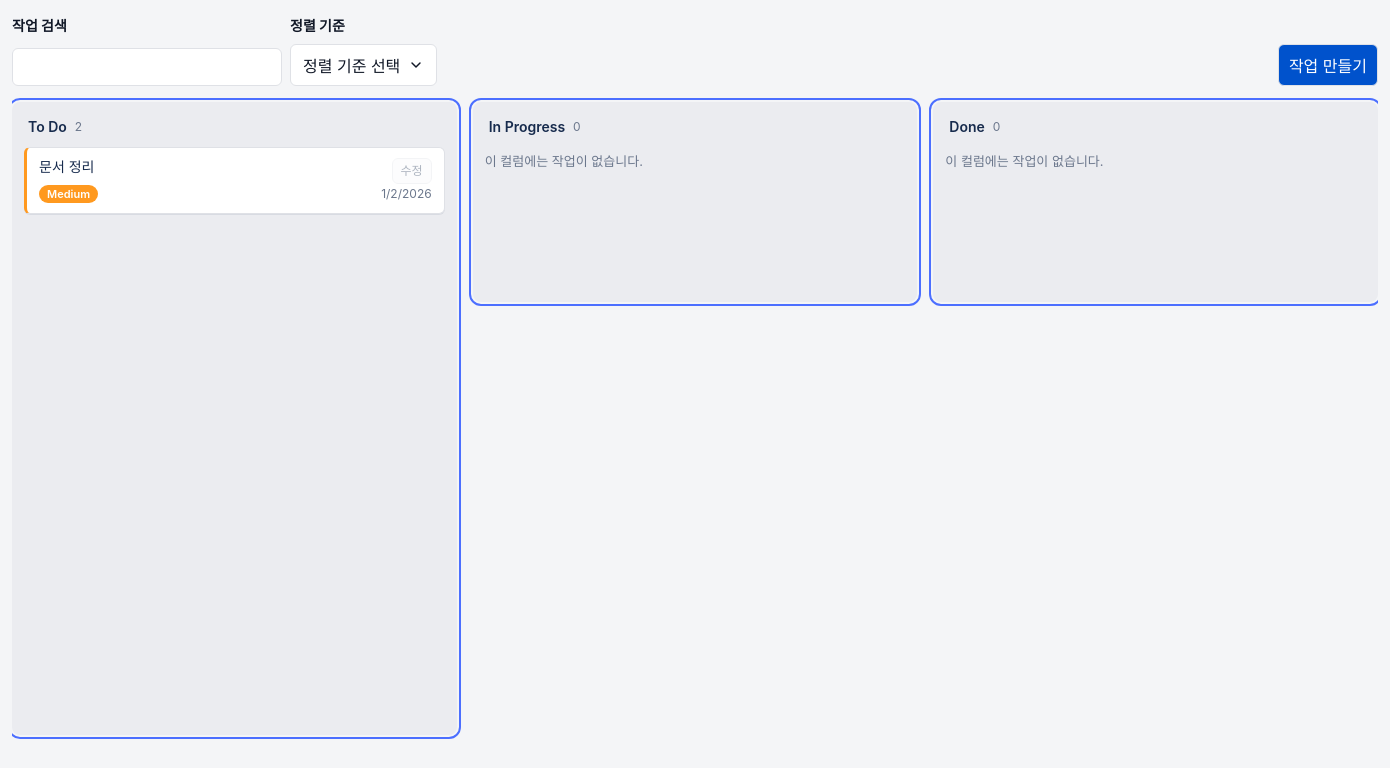
Test: 보드 검색 기능 › 검색어가 바뀌면 쿼리 캐시를 바꾸지 않고 보이는 작업 id만 필터링한다
The image size is (1390, 768).
Expected: the text "문서 정리" is shown, [39, 158, 94, 175]
Type "결제" into the search field labelled "작업 검색" at (147, 67), box [12, 48, 282, 86]
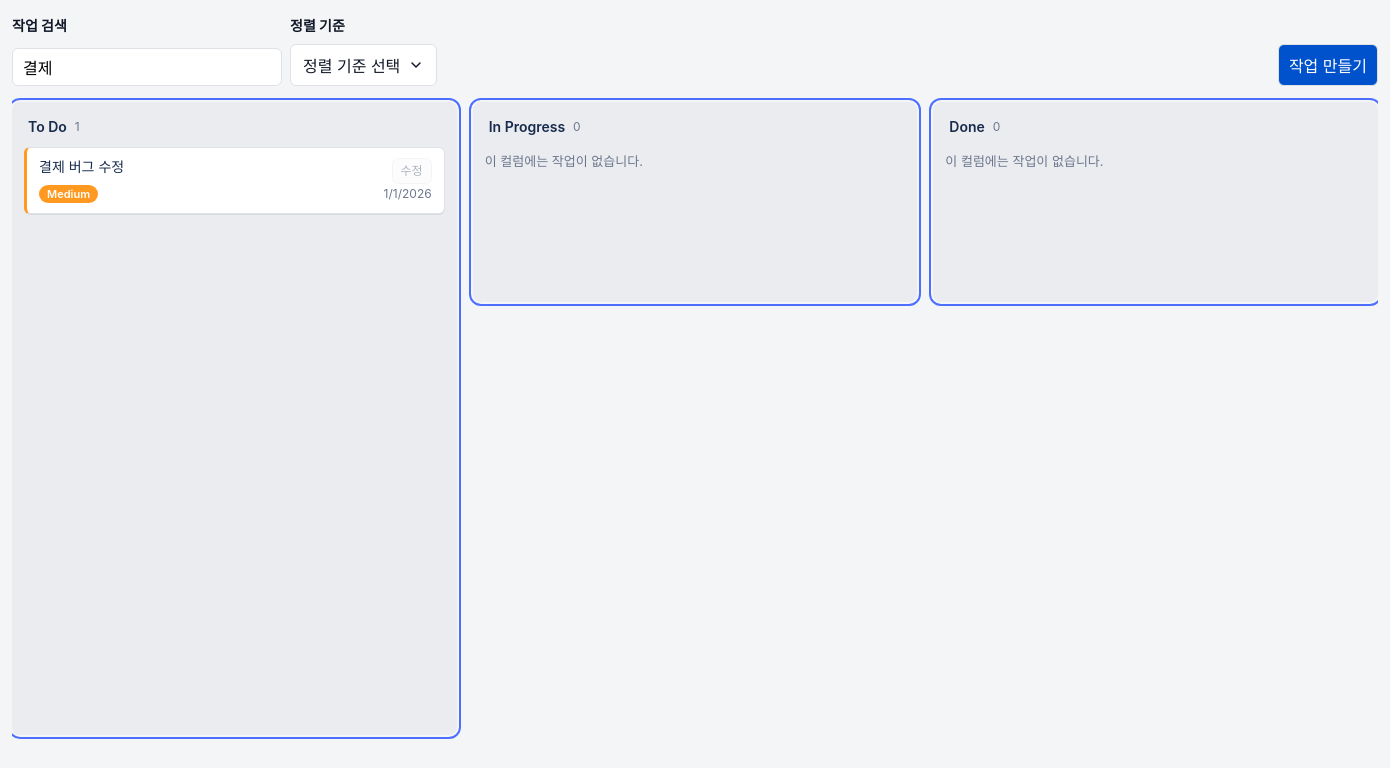
Expected: the text "결제 버그 수정" is shown, [39, 158, 124, 175]
Expected: the text "문서 정리" is gone
